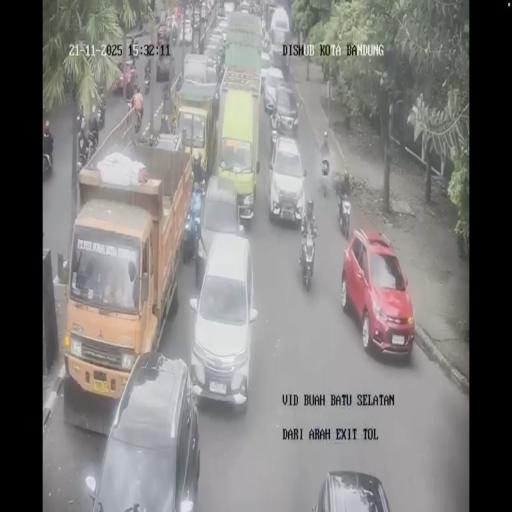car: (89, 354, 199, 510), (341, 229, 413, 358), (196, 173, 246, 281), (268, 134, 305, 228), (263, 66, 284, 114), (203, 41, 224, 78), (156, 22, 170, 48), (216, 16, 230, 41), (190, 6, 200, 28), (223, 1, 235, 16), (199, 2, 207, 21), (240, 0, 250, 12)
motorcycle: (298, 223, 316, 290), (78, 124, 98, 172), (337, 193, 351, 239), (88, 103, 104, 135), (124, 65, 138, 99), (129, 102, 143, 134), (320, 159, 331, 198), (76, 105, 86, 137), (270, 122, 278, 157), (42, 153, 52, 178), (128, 37, 138, 60), (170, 22, 178, 46), (178, 24, 186, 46), (144, 67, 150, 94)
truck: (173, 58, 219, 180), (221, 8, 263, 92), (269, 6, 291, 72)
